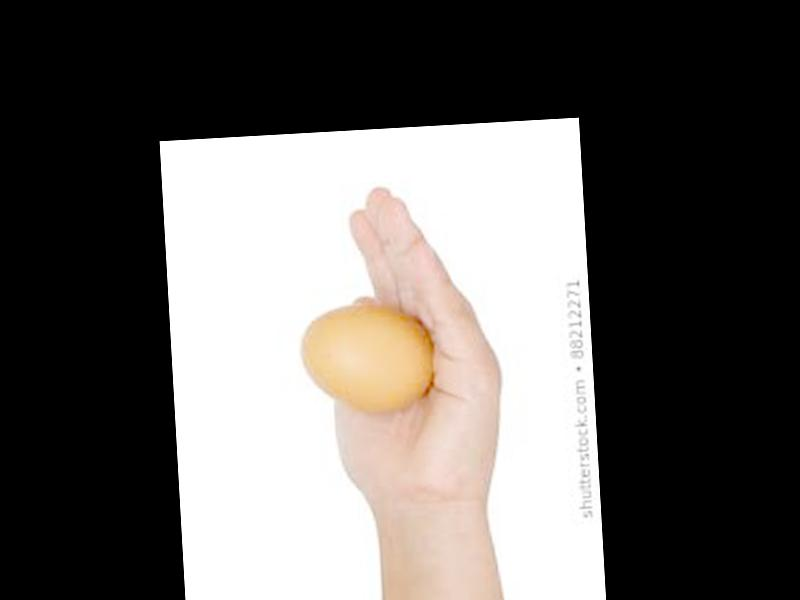Eggs: (297, 301, 438, 416)
